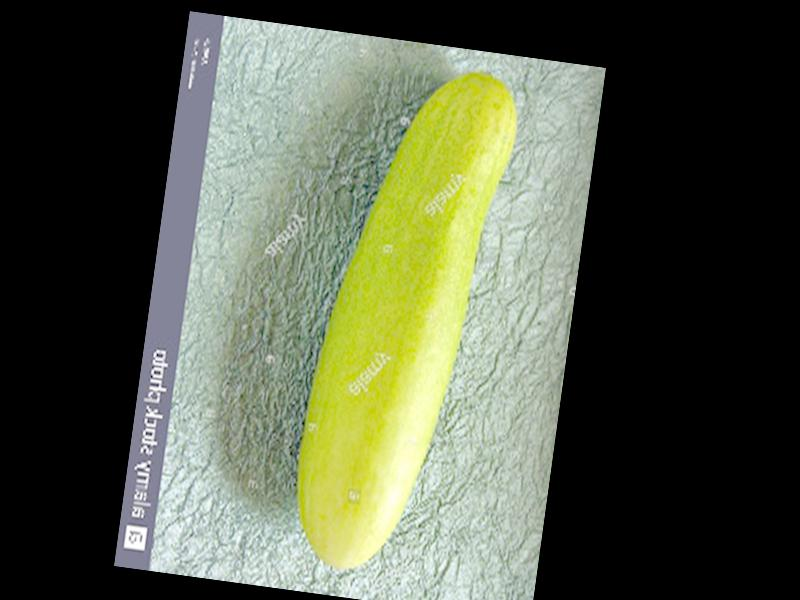Cucumber: (286, 53, 524, 584)
